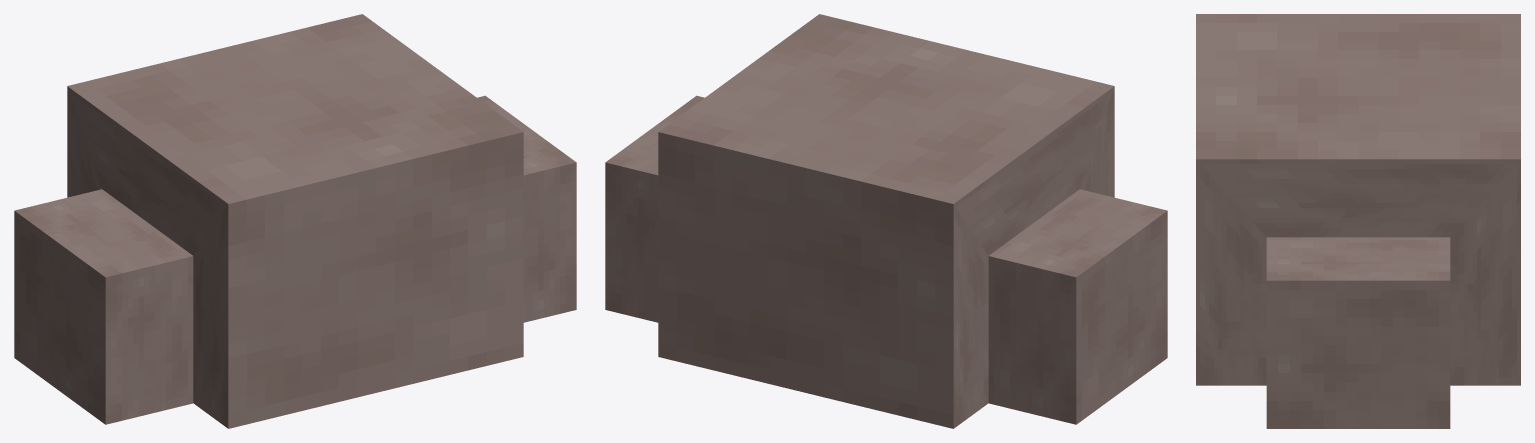
File: bootcamp.obj
3 views of the same model, side by side, from view 1: azimuth 30°, elevation 25°; view 2: azimuth 150°, elevation 25°; view 3: azimuth 270°, elevation 25° (orthographic).
Visible parts, largest first — view 1: Cube; view 2: Cube; view 3: Cube.
Part boxes in pixels (x1,y1,x2,y2): Cube: (14, 14, 576, 428); Cube: (605, 14, 1167, 428); Cube: (1196, 14, 1520, 428).
Size of the model in its own units: 0.7645 by 0.3487 by 0.4532.
Materials: 1 (1 with a texture image).
